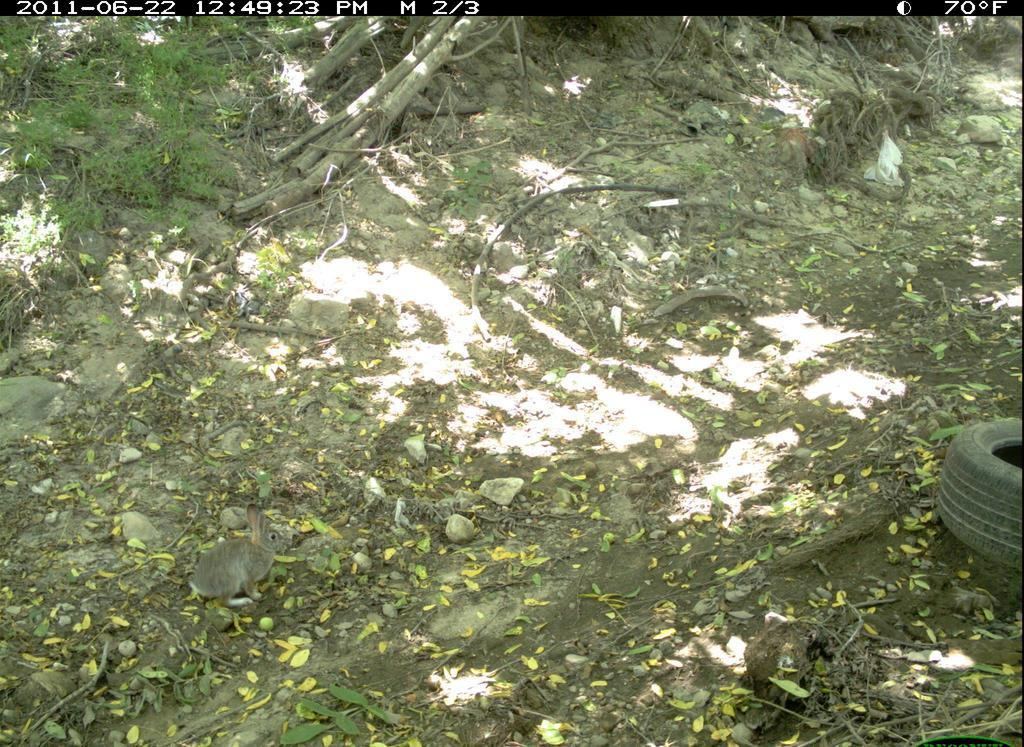rabbit: (184, 493, 294, 618)
